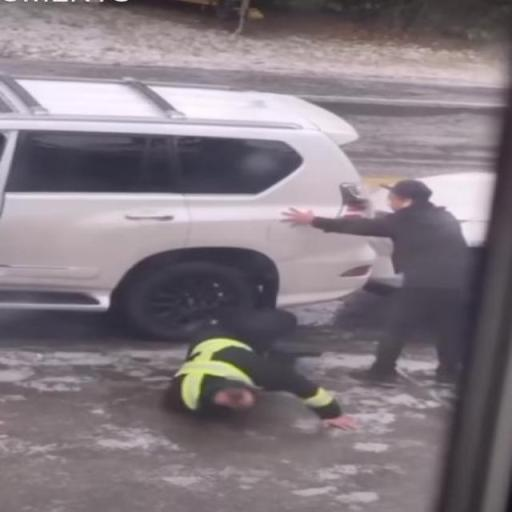Fall: (160, 307, 364, 435)
